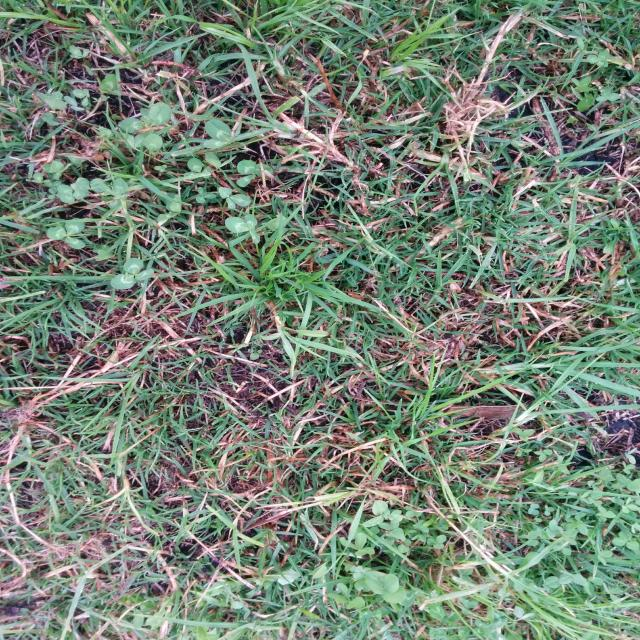Four Leaf Clover: (203, 119, 242, 149)
